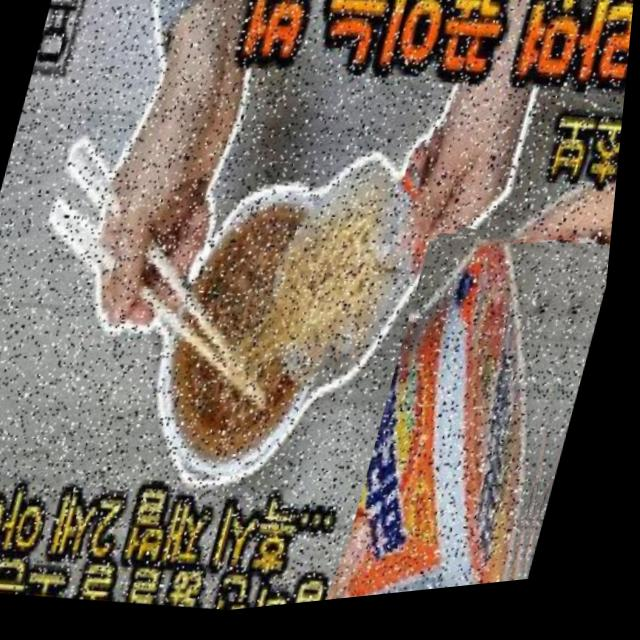Miscellaneous: (342, 223, 620, 608)
